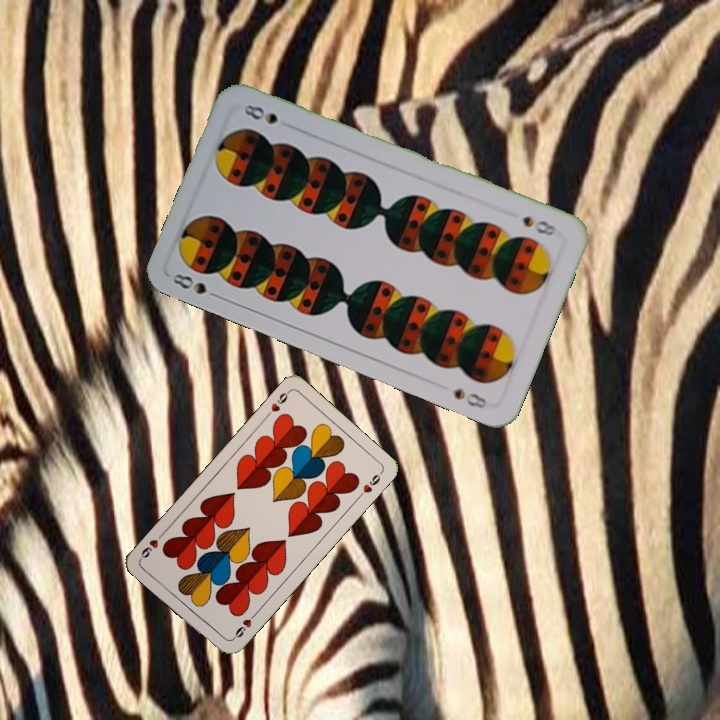H9: (228, 609, 259, 643), (262, 387, 293, 420)
S8: (169, 269, 225, 302), (518, 212, 561, 240)
